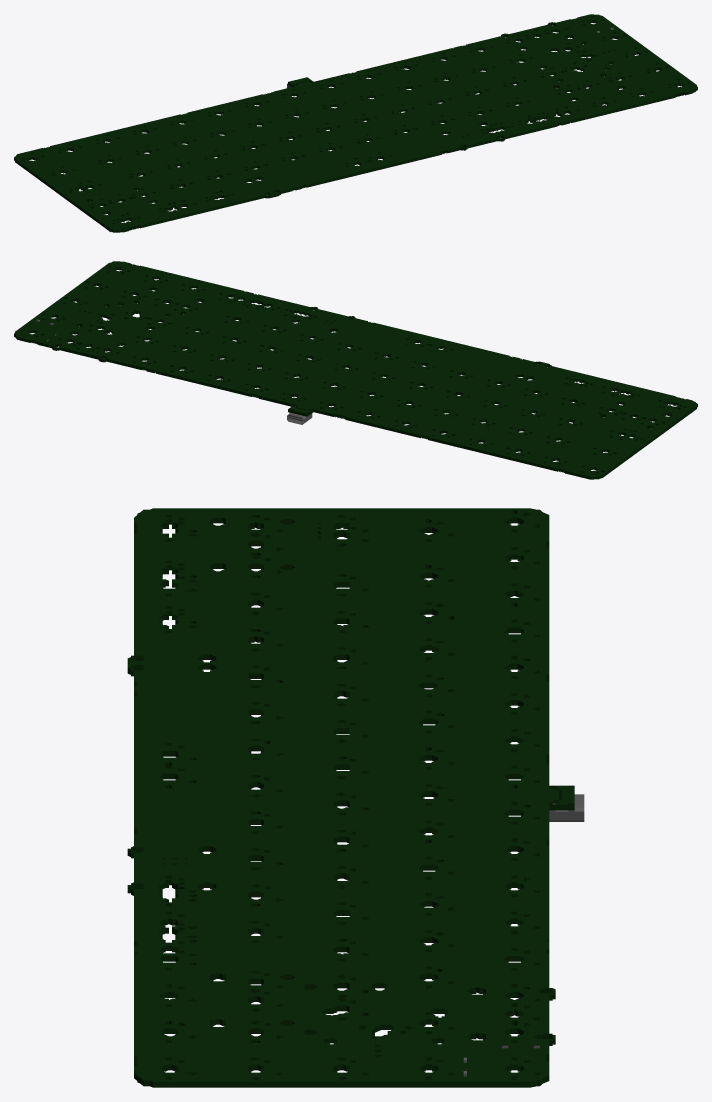
Rendered from kay65.glb.
3 views of the same model, one above another, from view 1: azimuth 30°, elevation 25°; view 2: azimuth 150°, elevation 25°; view 3: azimuth 270°, elevation 25° (orthographic). The views are drawn at different scales.
Visible parts, largest first — view 1: kay65; view 2: kay65; view 3: kay65.
Boxes of the visible parts, x1,y1,x2,y2 form: kay65: (14,14,697,232); kay65: (14,261,697,479); kay65: (127,508,584,1087).
Size of the model in its own units: 300 by 5.6 by 101.
